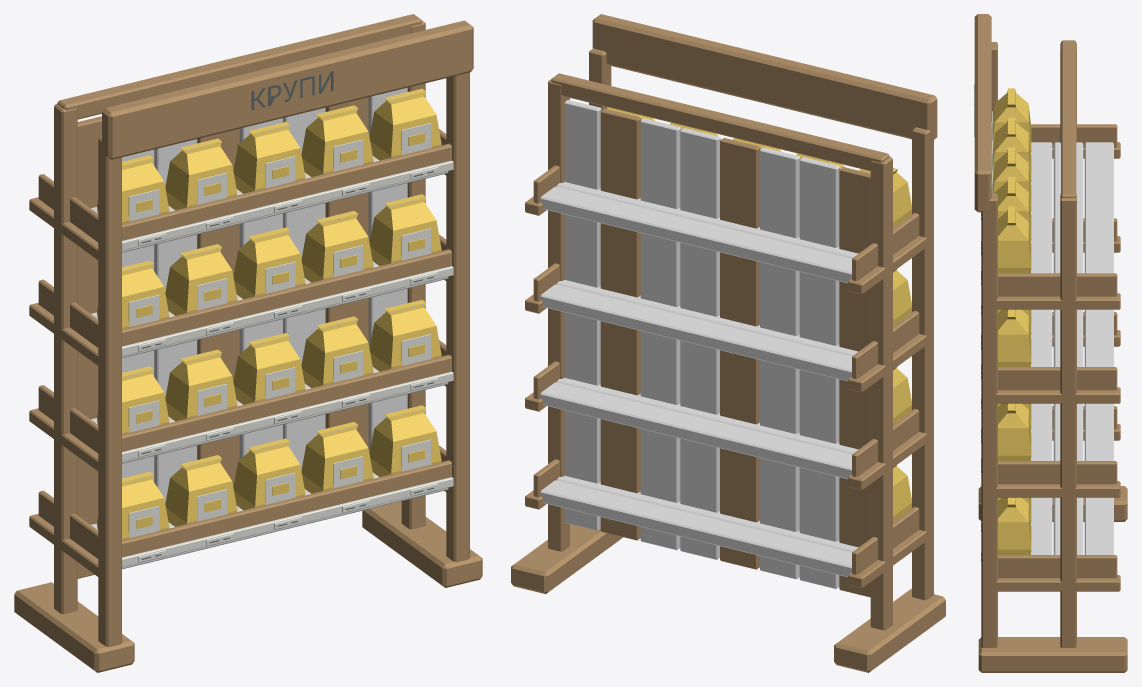
File: Shelf_Grains.fbx
3 renders of one model, left to right at view 1: azimuth 30°, elevation 25°; view 2: azimuth 150°, elevation 25°; view 3: azimuth 270°, elevation 25°, orthographic. The views are drawn at different scales.
Parts seen in each view (by area): view 1: Shelf_Grains__LPCXFER, Shelf_Grains__Back_wood__LPCXFER, Shelf_Grains__Header_wood__LPCXFER, Shelf_Grains__Shelf_1__LPCXFER, Shelf_Grains__Shelf_2__LPCXFER, Shelf_Grains__Shelf_3__LPCXFER, Shelf_Grains__Shelf_4__LPCXFER, Shelf_Grains_Item_1_F_2_bag__LPCXFER, Shelf_Grains_Item_2_F_2_bag__LPCXFER, Shelf_Grains_Item_2_F_3_bag__LPCXFER, Shelf_Grains_Item_4_F_3_bag__LPCXFER, Shelf_Grains_Item_4_F_5_bag__LPCXFER (+16 smaller); view 2: Shelf_Grains__Back_wood__LPCXFER, Shelf_Grains__LPCXFER, Shelf_Grains__Header_wood__LPCXFER, Shelf_Grains__Shelf_3__LPCXFER, Shelf_Grains__Shelf_4__LPCXFER, Shelf_Grains__Shelf_1__LPCXFER, Shelf_Grains__Shelf_2__LPCXFER, Shelf_Grains_Item_4_F_1_bag__LPCXFER, Shelf_Grains_Item_1_F_1_bag__LPCXFER, Shelf_Grains_Item_2_F_1_bag__LPCXFER, Shelf_Grains_Item_3_F_1_bag__LPCXFER; view 3: Shelf_Grains__LPCXFER, Shelf_Grains__Shelf_4__LPCXFER, Shelf_Grains__Shelf_2__LPCXFER, Shelf_Grains__Shelf_3__LPCXFER, Shelf_Grains__Shelf_1__LPCXFER, Shelf_Grains__Header_wood__LPCXFER, Shelf_Grains_Item_4_F_5_bag__LPCXFER, Shelf_Grains_Item_1_F_5_bag__LPCXFER, Shelf_Grains_Item_2_F_5_bag__LPCXFER, Shelf_Grains_Item_3_F_5_bag__LPCXFER, Shelf_Grains_Item_4_F_2_bag__LPCXFER, Shelf_Grains_Item_4_F_1_bag__LPCXFER (+2 smaller).
Part boxes in pixels (bbox=[...]): Shelf_Grains__LPCXFER: bbox=[14, 14, 482, 672]; Shelf_Grains__Back_wood__LPCXFER: bbox=[77, 87, 407, 578]; Shelf_Grains__Header_wood__LPCXFER: bbox=[102, 20, 473, 159]; Shelf_Grains__Shelf_1__LPCXFER: bbox=[38, 445, 453, 569]; Shelf_Grains__Shelf_2__LPCXFER: bbox=[38, 340, 453, 463]; Shelf_Grains__Shelf_3__LPCXFER: bbox=[38, 234, 453, 358]; Shelf_Grains__Shelf_4__LPCXFER: bbox=[38, 129, 453, 252]; Shelf_Grains_Item_1_F_2_bag__LPCXFER: bbox=[165, 455, 237, 526]; Shelf_Grains_Item_2_F_2_bag__LPCXFER: bbox=[165, 349, 237, 421]; Shelf_Grains_Item_2_F_3_bag__LPCXFER: bbox=[233, 333, 305, 404]; Shelf_Grains_Item_4_F_3_bag__LPCXFER: bbox=[233, 122, 305, 193]; Shelf_Grains_Item_4_F_5_bag__LPCXFER: bbox=[369, 88, 441, 160]; Shelf_Grains__Back_wood__LPCXFER: bbox=[564, 99, 870, 597]; Shelf_Grains__LPCXFER: bbox=[511, 48, 945, 672]; Shelf_Grains__Header_wood__LPCXFER: bbox=[592, 14, 937, 141]; Shelf_Grains__Shelf_3__LPCXFER: bbox=[533, 263, 919, 381]; Shelf_Grains__Shelf_4__LPCXFER: bbox=[533, 165, 919, 283]; Shelf_Grains__Shelf_1__LPCXFER: bbox=[533, 459, 919, 577]; Shelf_Grains__Shelf_2__LPCXFER: bbox=[533, 361, 919, 479]; Shelf_Grains_Item_4_F_1_bag__LPCXFER: bbox=[859, 168, 911, 228]; Shelf_Grains_Item_1_F_1_bag__LPCXFER: bbox=[893, 465, 911, 521]; Shelf_Grains_Item_2_F_1_bag__LPCXFER: bbox=[893, 367, 911, 423]; Shelf_Grains_Item_3_F_1_bag__LPCXFER: bbox=[893, 269, 911, 325]; Shelf_Grains__LPCXFER: bbox=[978, 40, 1127, 672]; Shelf_Grains__Shelf_4__LPCXFER: bbox=[981, 124, 1117, 296]; Shelf_Grains__Shelf_2__LPCXFER: bbox=[981, 312, 1117, 484]; Shelf_Grains__Shelf_3__LPCXFER: bbox=[981, 218, 1117, 390]; Shelf_Grains__Shelf_1__LPCXFER: bbox=[981, 406, 1117, 578]; Shelf_Grains__Header_wood__LPCXFER: bbox=[974, 14, 991, 212]; Shelf_Grains_Item_4_F_5_bag__LPCXFER: bbox=[998, 206, 1031, 273]; Shelf_Grains_Item_1_F_5_bag__LPCXFER: bbox=[998, 497, 1031, 554]; Shelf_Grains_Item_2_F_5_bag__LPCXFER: bbox=[998, 403, 1031, 460]; Shelf_Grains_Item_3_F_5_bag__LPCXFER: bbox=[998, 309, 1031, 366]; Shelf_Grains_Item_4_F_2_bag__LPCXFER: bbox=[991, 117, 1031, 181]; Shelf_Grains_Item_4_F_1_bag__LPCXFER: bbox=[991, 88, 1031, 152].
Size of the model in its own units: 154 by 212 by 59.15.
